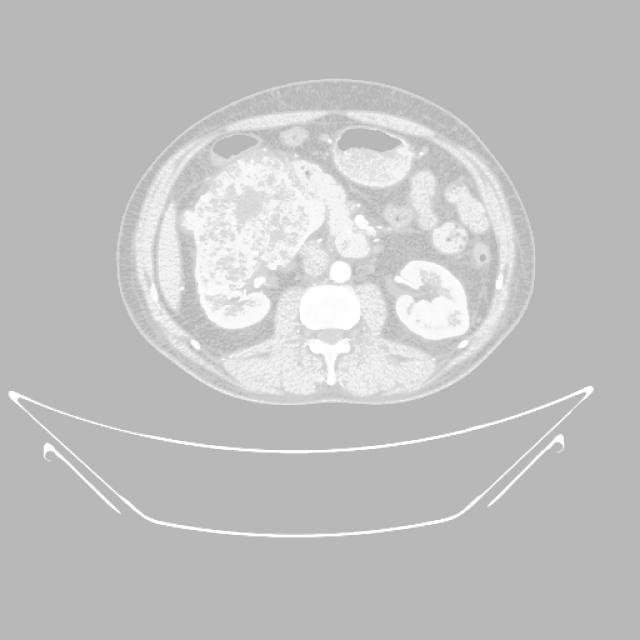TUMOR: (159, 175, 466, 325)
